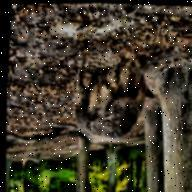boar: (42, 51, 153, 166)
